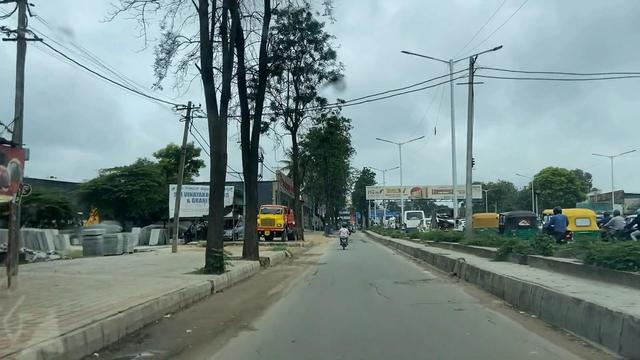RoadDamages: (371, 270, 508, 326)
